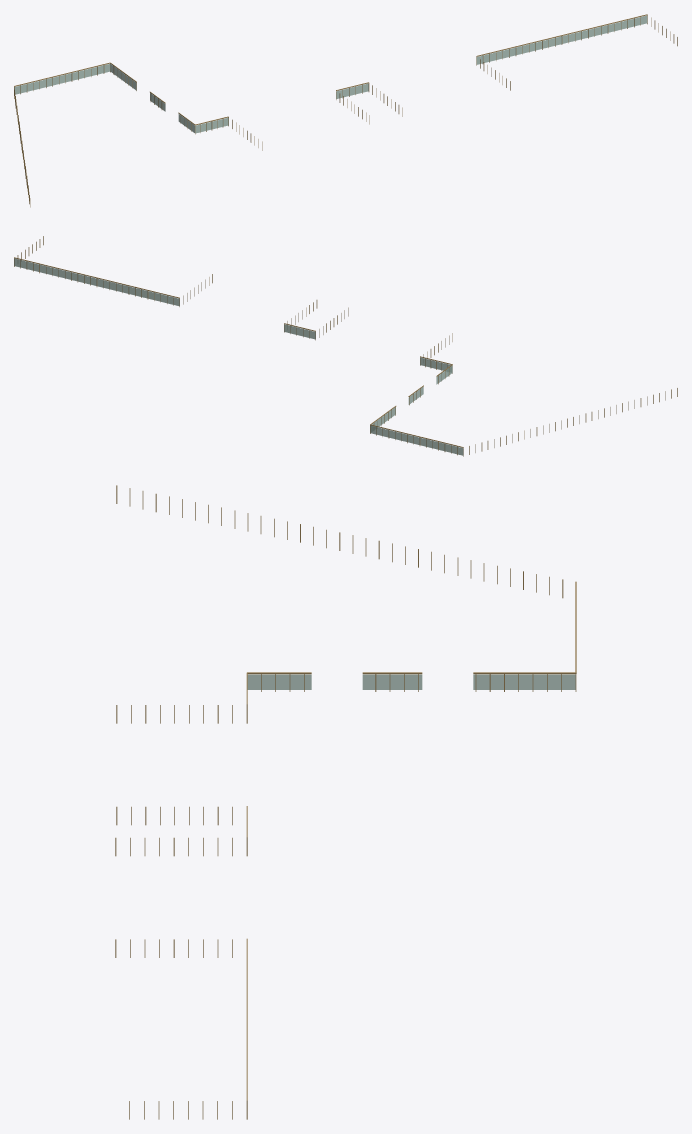
File: TidalD13ServiceGuardPatch.glb
3 renders of one model, top to bottom at view 1: azimuth 30°, elevation 25°; view 2: azimuth 150°, elevation 25°; view 3: azimuth 270°, elevation 25°, orthographic. The views are drawn at different scales.
Visible parts, largest first — view 1: TG_Batch_145, TG_Batch_144; view 2: TG_Batch_145, TG_Batch_144; view 3: TG_Batch_144, TG_Batch_145.
Part boxes in pixels (x1,y1,x2,y2): TG_Batch_145: (14, 15, 647, 133); TG_Batch_144: (14, 14, 677, 207); TG_Batch_145: (14, 258, 463, 455); TG_Batch_144: (14, 236, 677, 456); TG_Batch_144: (115, 485, 576, 1119); TG_Batch_145: (247, 674, 575, 689).
Bounding box in the file's own units: 78.92 × 1.14 × 24.96.
Materials: 2 (1 with a texture image).
